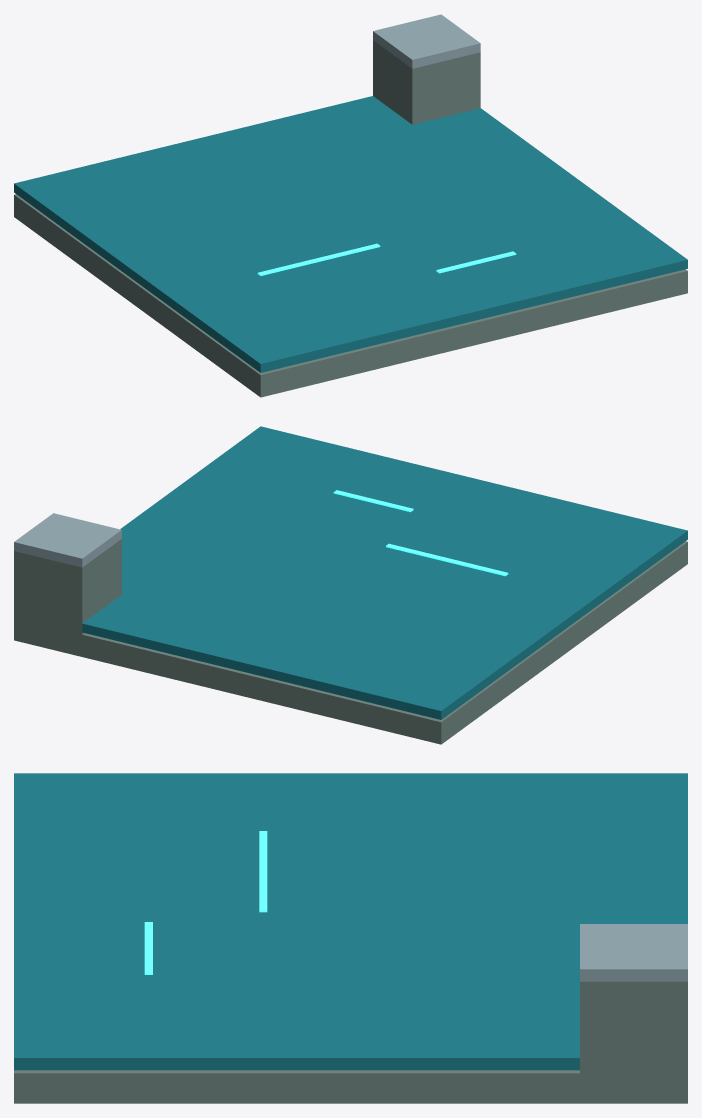
File: water_inner_corner.glb
3 views of the same model, one above another, from view 1: azimuth 30°, elevation 25°; view 2: azimuth 150°, elevation 25°; view 3: azimuth 270°, elevation 25° (orthographic). The views are drawn at different scales.
Parts seen in each view (by area): view 1: Water, Bed, Water.001, Bank, BankCap, WaterRipple; view 2: Water, Bed, Water.001, Bank, BankCap, WaterRipple; view 3: Water, Water.001, Bed, Bank, BankCap, WaterRipple.
Part boxes in pixels (bbox=[...]): Water: bbox=[14, 96, 619, 372]; Bed: bbox=[14, 194, 687, 397]; Water.001: bbox=[412, 108, 687, 285]; Bank: bbox=[373, 40, 480, 124]; BankCap: bbox=[373, 14, 480, 68]; WaterRipple: bbox=[257, 243, 380, 275]; Water: bbox=[82, 443, 687, 719]; Bed: bbox=[14, 541, 687, 744]; Water.001: bbox=[120, 426, 328, 594]; Bank: bbox=[14, 539, 121, 656]; BankCap: bbox=[14, 513, 121, 567]; WaterRipple: bbox=[386, 543, 508, 576]; Water: bbox=[14, 773, 687, 1012]; Water.001: bbox=[14, 1012, 579, 1070]; Bed: bbox=[14, 1070, 687, 1103]; Bank: bbox=[580, 981, 687, 1103]; BankCap: bbox=[580, 924, 687, 981]; WaterRipple: bbox=[259, 831, 267, 912].
Bounding box in the file's own units: 2 × 0.44 × 2.
